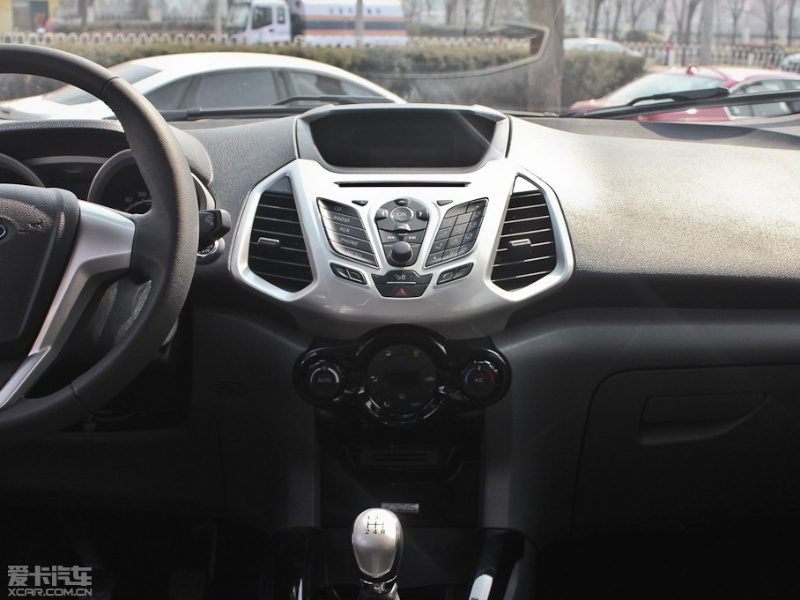control_center: (242, 105, 579, 536)
gear_lever: (293, 494, 442, 585)
odometer: (4, 113, 187, 215)
steering_wheel: (1, 48, 219, 429)
